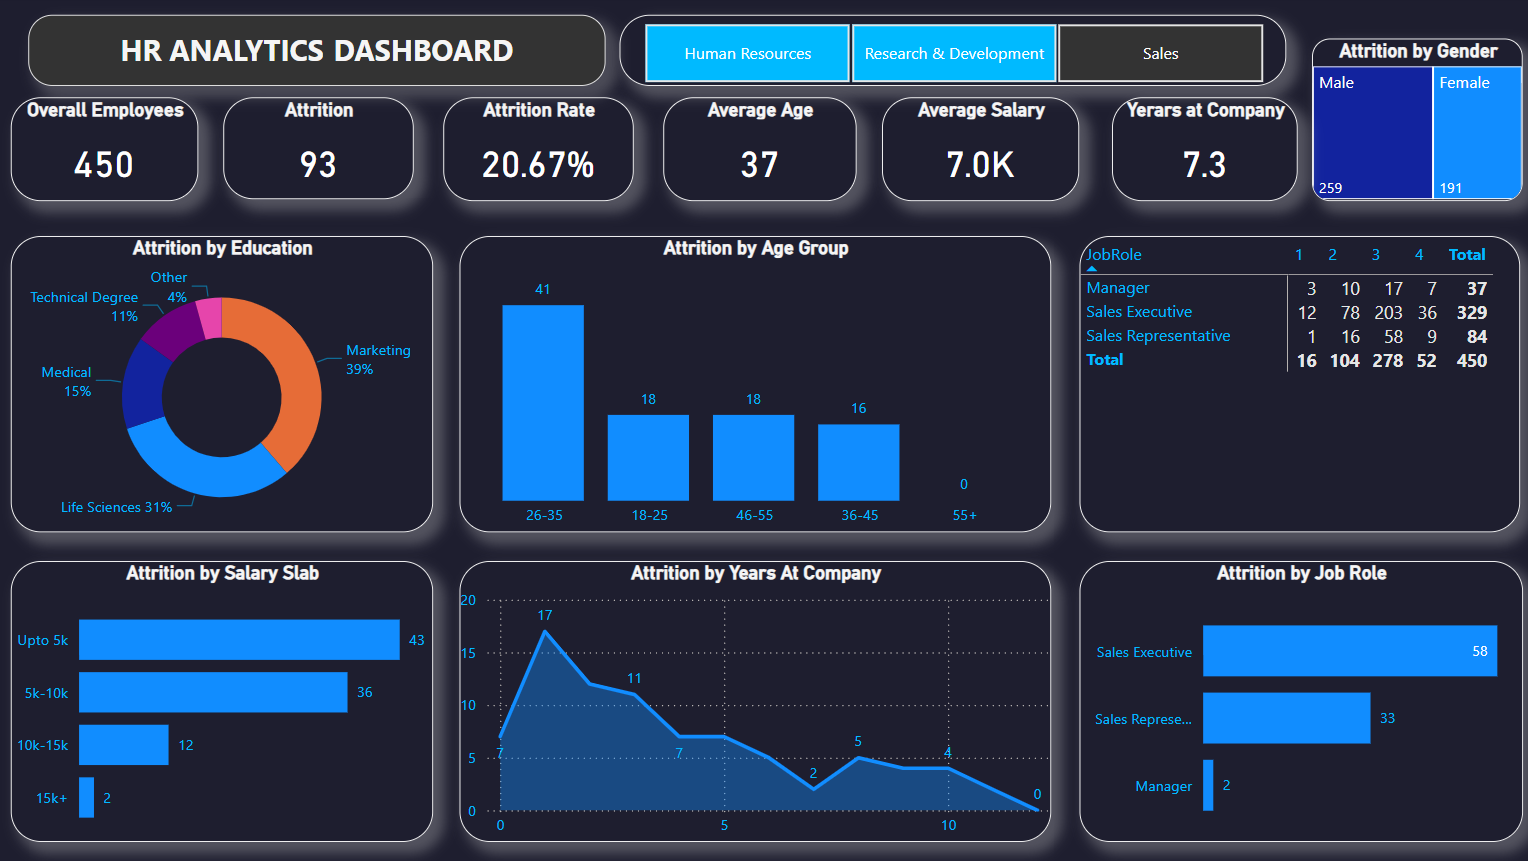

This screenshot's page, from the dashboard's own definition file:
{"tool":"powerbi","page":{"name":"Page 1","canvas":[1280,720],"ordinal":0},"visuals":[{"type":"cardVisual","title":"Attrition Rate","fields":{"Data":["HR_Analytics.Attrition Rate"]},"box":[370.9,83.7,158.1,86],"z":0},{"type":"cardVisual","title":"Attrition","fields":{"Data":["HR_Analytics.Attrition_Sum"]},"box":[188.4,83.7,158.1,84.9],"z":1000},{"type":"cardVisual","title":"Overall Employees","fields":{"Data":["Sum(HR_Analytics.Number of Employee)"]},"box":[11.6,83.7,155.8,86],"z":2000},{"type":"donutChart","title":"Attrition by Education","fields":{"Category":["HR_Analytics.EducationField"],"Y":["Sum(HR_Analytics.Attrition_Number)"]},"box":[11.6,200,351.2,246.5],"z":3000},{"type":"barChart","title":"Attrition by Salary Slab","fields":{"Category":["HR_Analytics.SalarySlab"],"Y":["Sum(HR_Analytics.Attrition_Number)"]},"box":[11.6,469.8,351.2,233.7],"z":4000},{"type":"barChart","title":"Attrition by Job Role","fields":{"Category":["HR_Analytics.JobRole"],"Y":["Sum(HR_Analytics.Attrition_Number)"]},"box":[900,469.8,368.6,233.7],"z":5000},{"type":"slicer","fields":{"Values":["HR_Analytics.Department"]},"box":[517.4,15.1,554.7,59.3],"z":6000},{"type":"pivotTable","fields":{"Columns":["HR_Analytics.WorkLifeBalance"],"Values":["CountNonNull(HR_Analytics.EnvironmentSatisfaction)"],"Rows":["HR_Analytics.JobRole"]},"box":[900,200,366.3,246.5],"z":7000},{"type":"columnChart","title":"Attrition by Age Group","fields":{"Y":["Sum(HR_Analytics.Attrition_Number)"],"Category":["HR_Analytics.AgeGroup"]},"box":[384.9,200,491.9,246.5],"z":8000},{"type":"areaChart","title":"Attrition by Years At Company","fields":{"Y":["Sum(HR_Analytics.Attrition_Number)"],"Category":["HR_Analytics.YearsAtCompany"]},"box":[384.9,469.8,491.9,233.7],"z":9000},{"type":"treemap","title":"Attrition by Gender","fields":{"Details":["HR_Analytics.Gender"],"Values":["CountNonNull(HR_Analytics.EmpID)"]},"box":[1093,34.9,175.6,134.9],"z":10000},{"type":"cardVisual","title":"Average Age","fields":{"Data":["Avg(HR_Analytics.Age)"]},"box":[553.5,83.7,160.5,86],"z":11000},{"type":"cardVisual","title":"Average Salary","fields":{"Data":["HR_Analytics.AvgSalary"]},"box":[736,83.7,164,86],"z":12000},{"type":"cardVisual","title":"Yerars at Company","fields":{"Data":["Avg(HR_Analytics.YearsAtCompany)"]},"box":[926.7,83.7,154.7,86],"z":13000},{"type":"textbox","box":[25.6,15.1,480.2,59.3],"z":14000}]}

Visuals, with their boxes in screenshot pixels (x1, y1, x2, y2), scaled from the page's 1280x720 canvas onto the 1528x861 screenshot:
"Attrition Rate" cardVisual: (443, 100, 631, 203)
"Attrition" cardVisual: (225, 100, 414, 202)
"Overall Employees" cardVisual: (14, 100, 200, 203)
"Attrition by Education" donutChart: (14, 239, 433, 534)
"Attrition by Salary Slab" barChart: (14, 562, 433, 841)
"Attrition by Job Role" barChart: (1074, 562, 1514, 841)
slicer - HR_Analytics.Department: (618, 18, 1280, 89)
pivotTable - HR_Analytics.WorkLifeBalance x CountNonNull(HR_Analytics.EnvironmentSatisfaction): (1074, 239, 1512, 534)
"Attrition by Age Group" columnChart: (459, 239, 1047, 534)
"Attrition by Years At Company" areaChart: (459, 562, 1047, 841)
"Attrition by Gender" treemap: (1305, 42, 1514, 203)
"Average Age" cardVisual: (661, 100, 852, 203)
"Average Salary" cardVisual: (879, 100, 1074, 203)
"Yerars at Company" cardVisual: (1106, 100, 1291, 203)
textbox: (31, 18, 604, 89)
